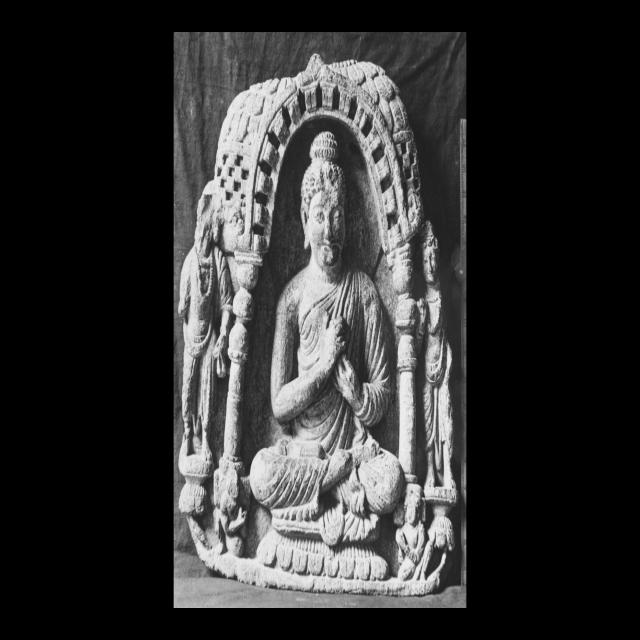buddha-sitting: (250, 133, 404, 581)
